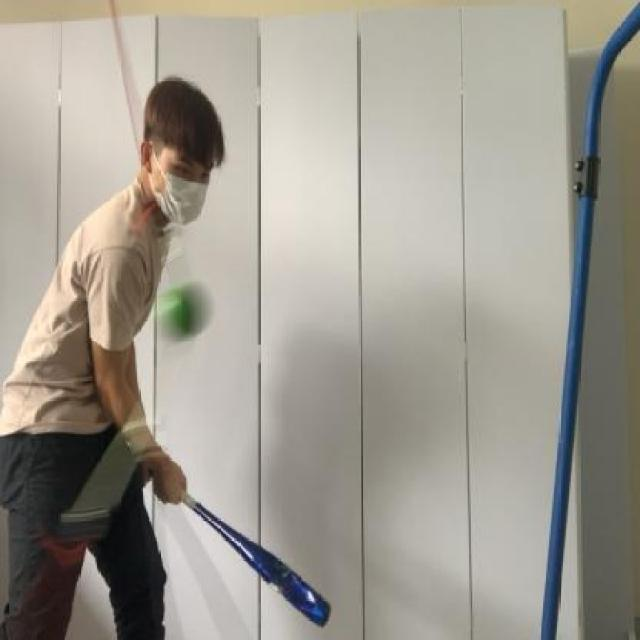baseball: (155, 273, 219, 352)
